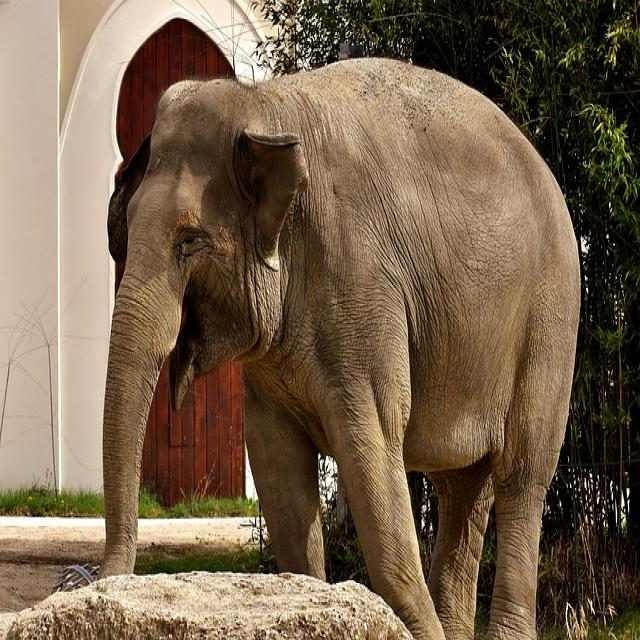FIL: (98, 64, 566, 640)
